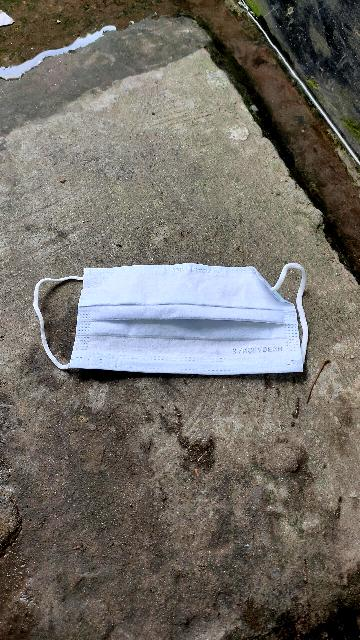mask: (22, 241, 336, 404)
